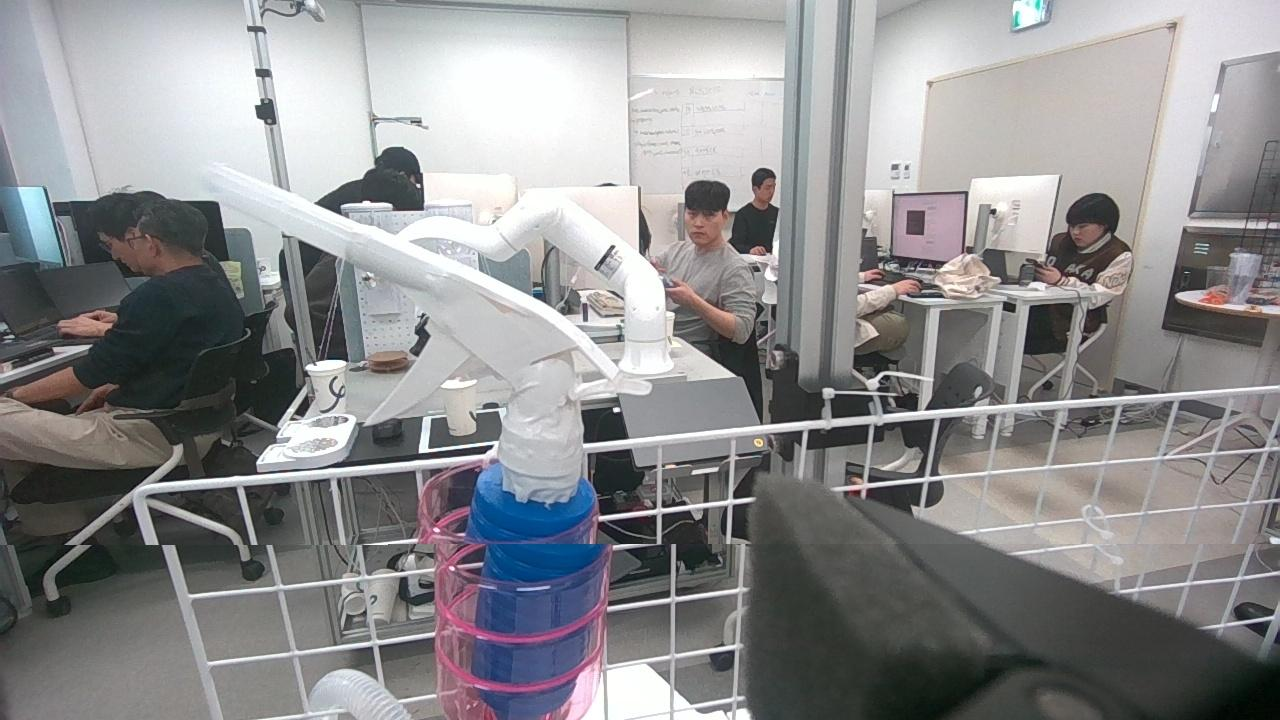Nozzle: (336, 216, 645, 679)
